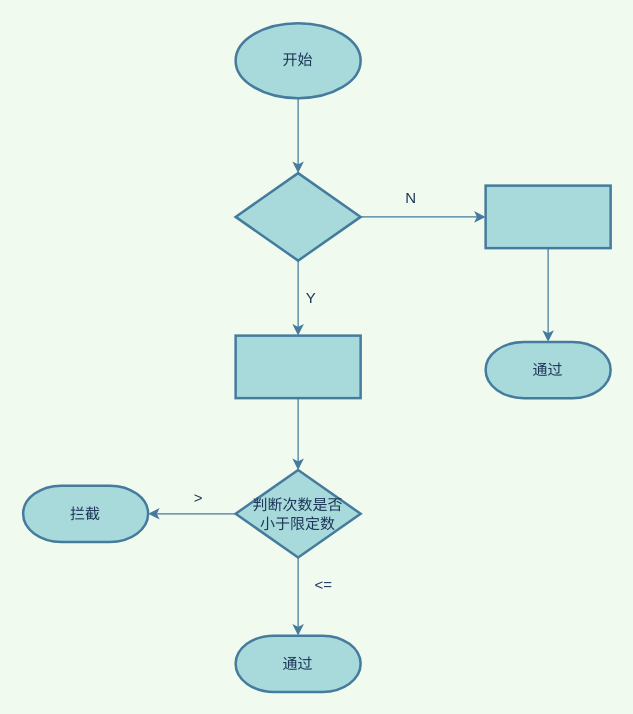
Image size: 633x714. Some labels were removed from this diagram. The shapes that lost their labels are listed below. From the top down, each one's centre as x and y in pixels, then its label:
point 297,216: key是否存在
point 547,216: 设置key+1，并设置失效时间
point 297,366: 获取访问次数
